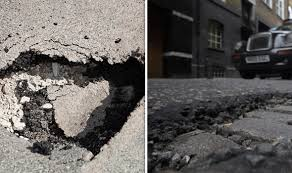pothole: (2, 42, 146, 166), (159, 92, 284, 173)
